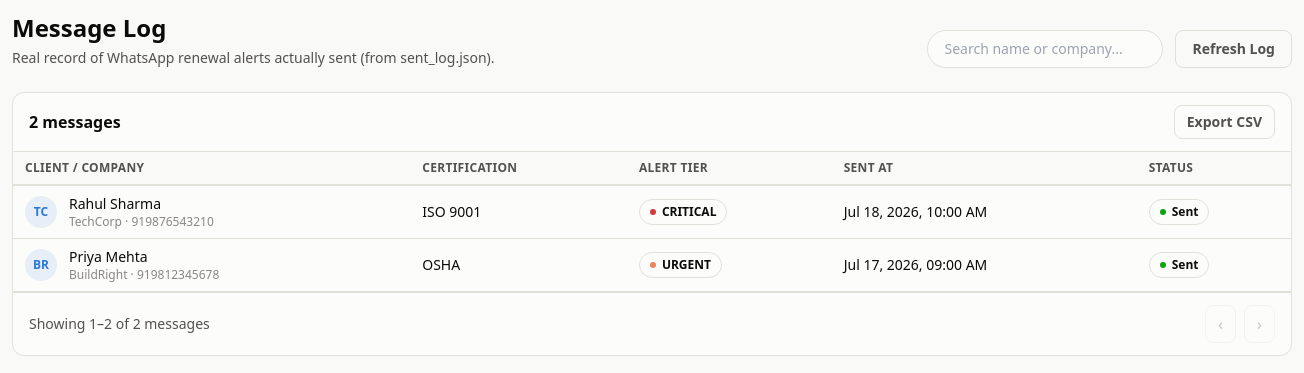
Scenario: MessageLogView › filters entries by search term
Expected: the text "Rahul Sharma" is shown, top-left (69, 194), bottom-right (161, 213)
Type "priya" into the field named "Search message log" at [1046, 49], box top-left (928, 30), bottom-right (1164, 68)
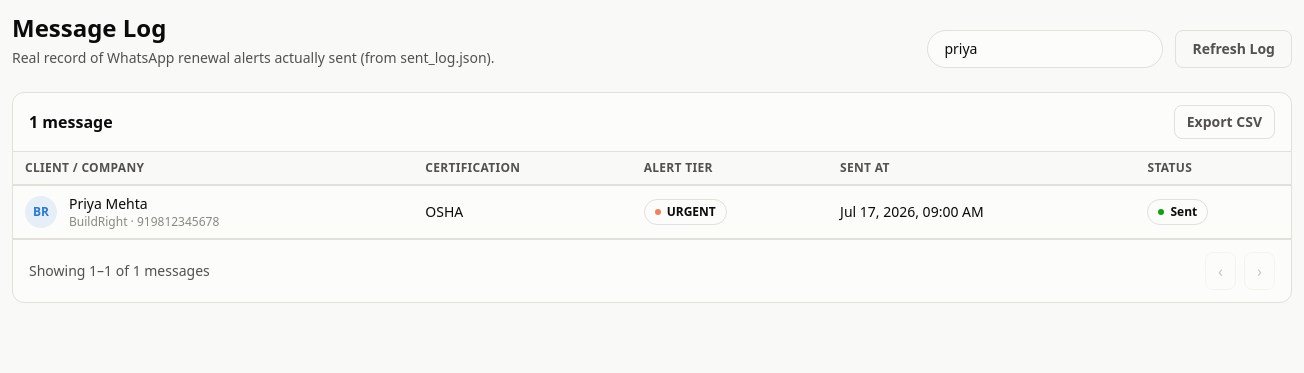
Expected: the text "Priya Mehta" is shown, top-left (69, 194), bottom-right (148, 213)
Expected: the text "Rahul Sharma" is gone
